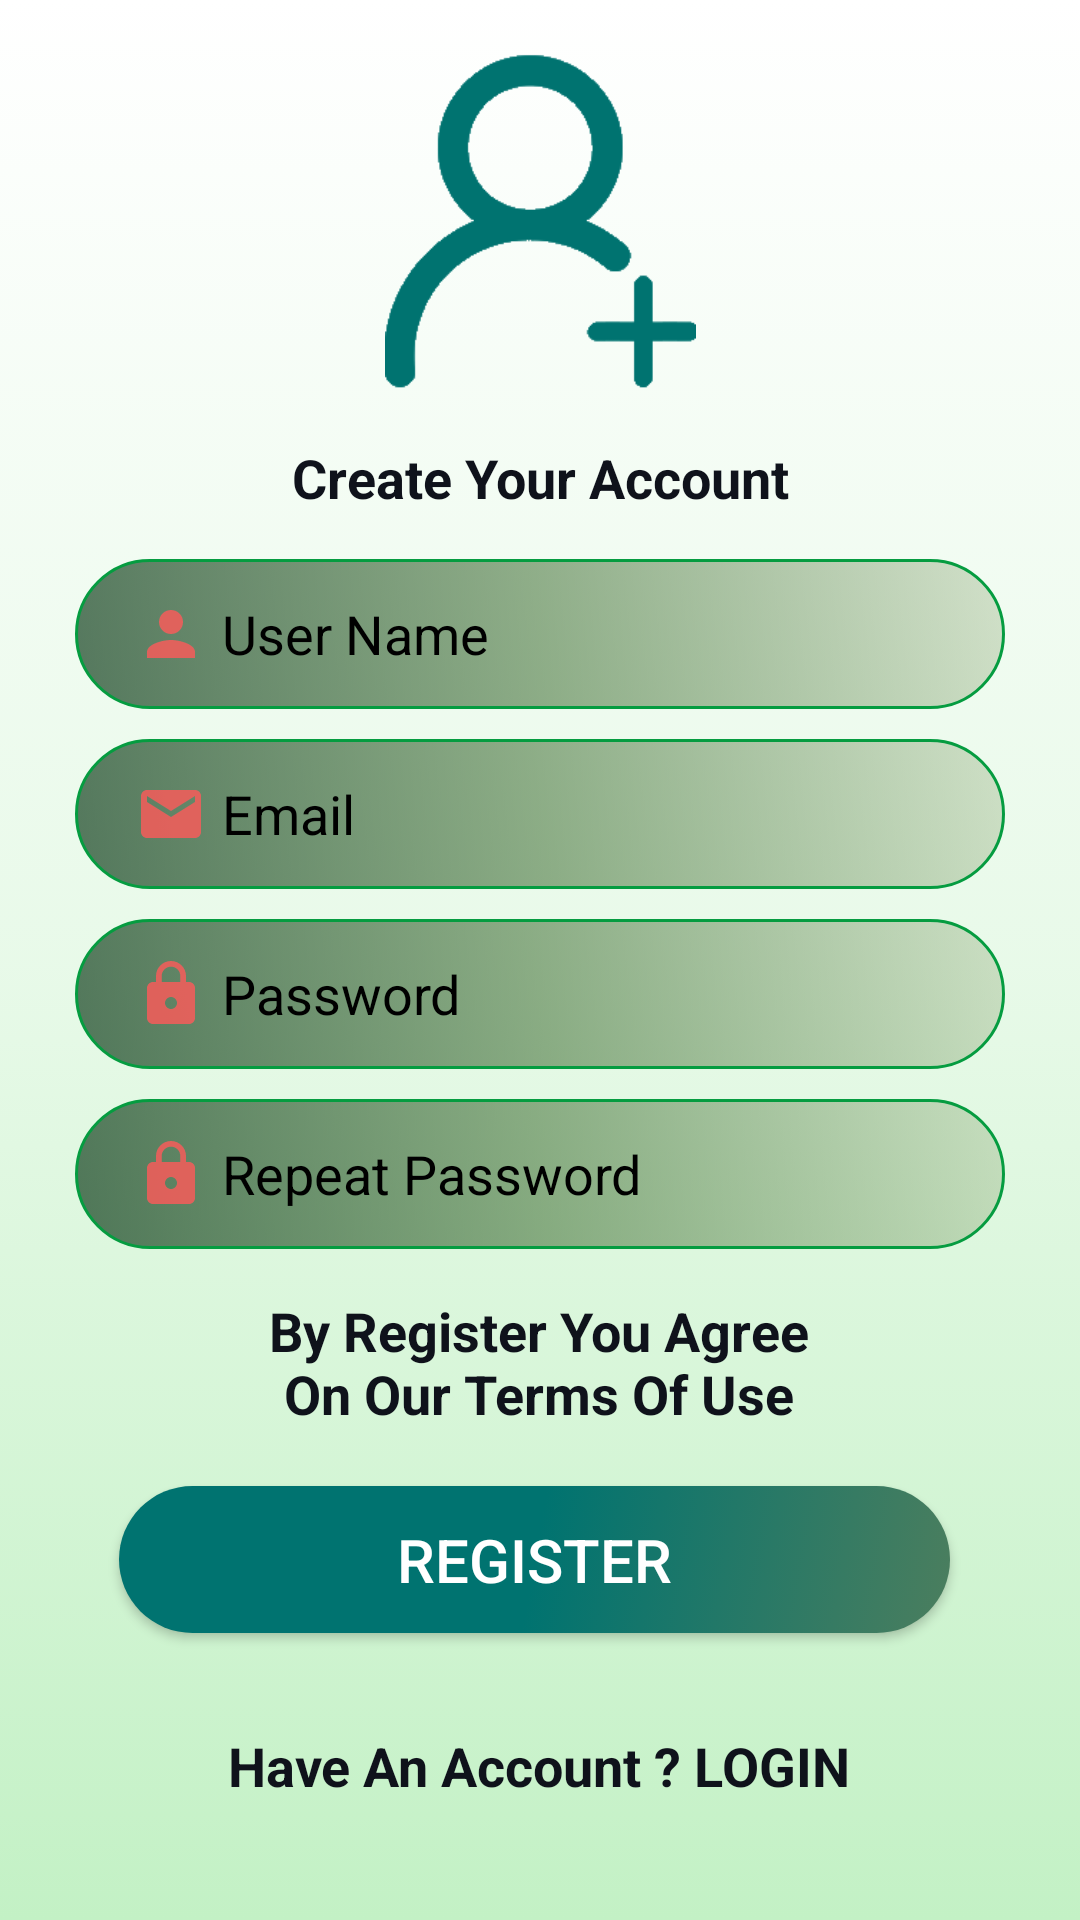

Screen size 1080 × 1920. Icon name, then its center in pixels as [x,y]:
adduser: [540,221]
